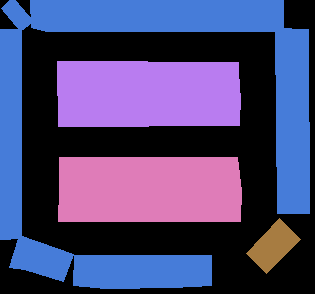parkingspot: (30, 0, 283, 31), (275, 28, 309, 213), (57, 61, 239, 95), (58, 92, 240, 126), (59, 157, 241, 191), (58, 188, 241, 221), (73, 255, 211, 288), (0, 29, 21, 239), (246, 218, 300, 273), (9, 235, 73, 281), (1, 0, 33, 31)
